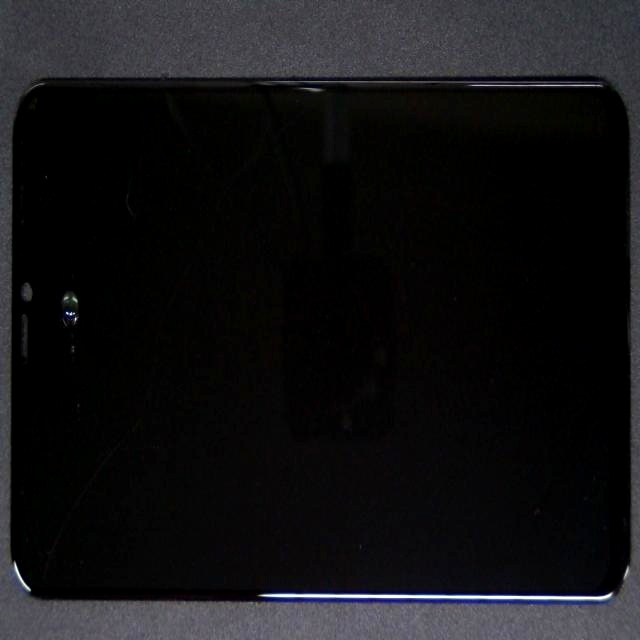oil: (51, 173, 129, 451)
